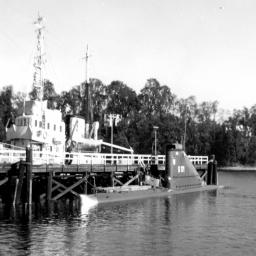submarine: (99, 150, 226, 209)
